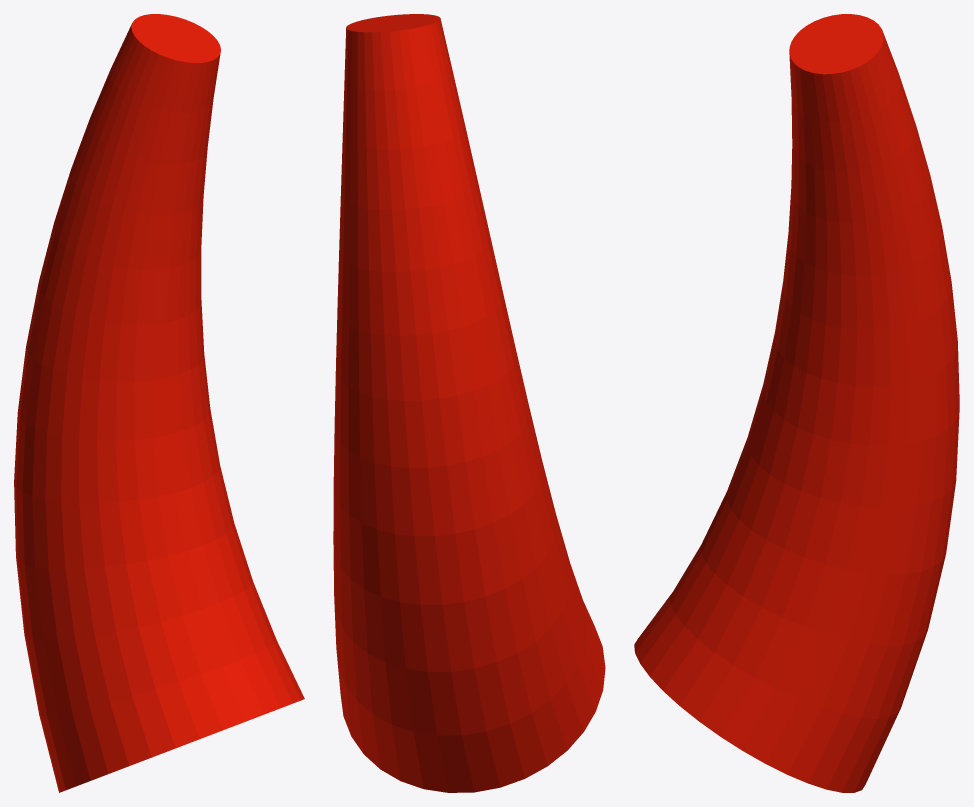
Rendered from Horn.fbx.
The picture shows the model from 3 angles, left to right: view 1: azimuth 30°, elevation 25°; view 2: azimuth 150°, elevation 25°; view 3: azimuth 270°, elevation 25°; orthographic projection. The views are drawn at different scales.
Visible parts, largest first — view 1: Horn; view 2: Horn; view 3: Horn.
Boxes of the visible parts, x1=… form: Horn: x1=14, y1=14, x2=304, y2=792; Horn: x1=333, y1=14, x2=605, y2=792; Horn: x1=634, y1=14, x2=959, y2=792.
Size of the model in its own units: 199 by 622 by 240.
